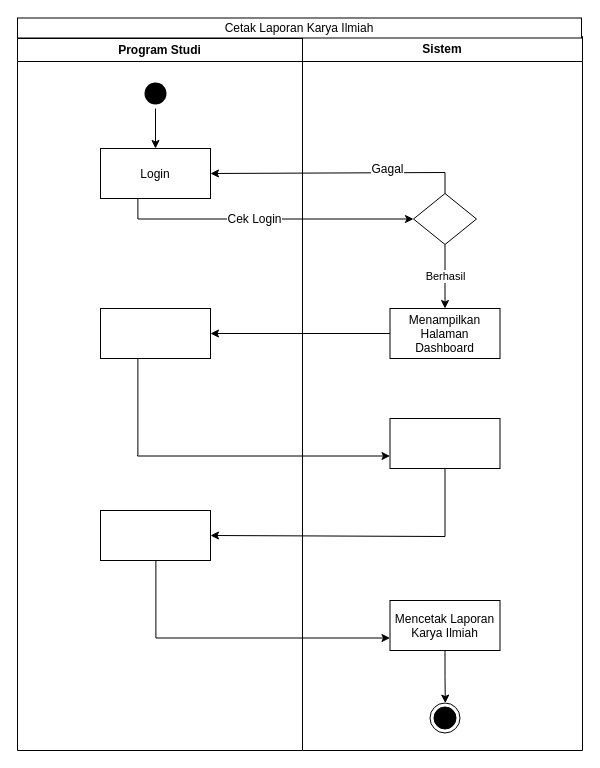
Image size: 600x768. Some labels were removed from this diagram. Each missing label, with the centre of its shape:
"Memasukkan Tahun" goes at point 155,535.
"Memilih Menu Cetak Laporan" goes at point 155,333.
"Menampilkan Form Penyaringan Berdasarkan Tahun" goes at point 444,443.
